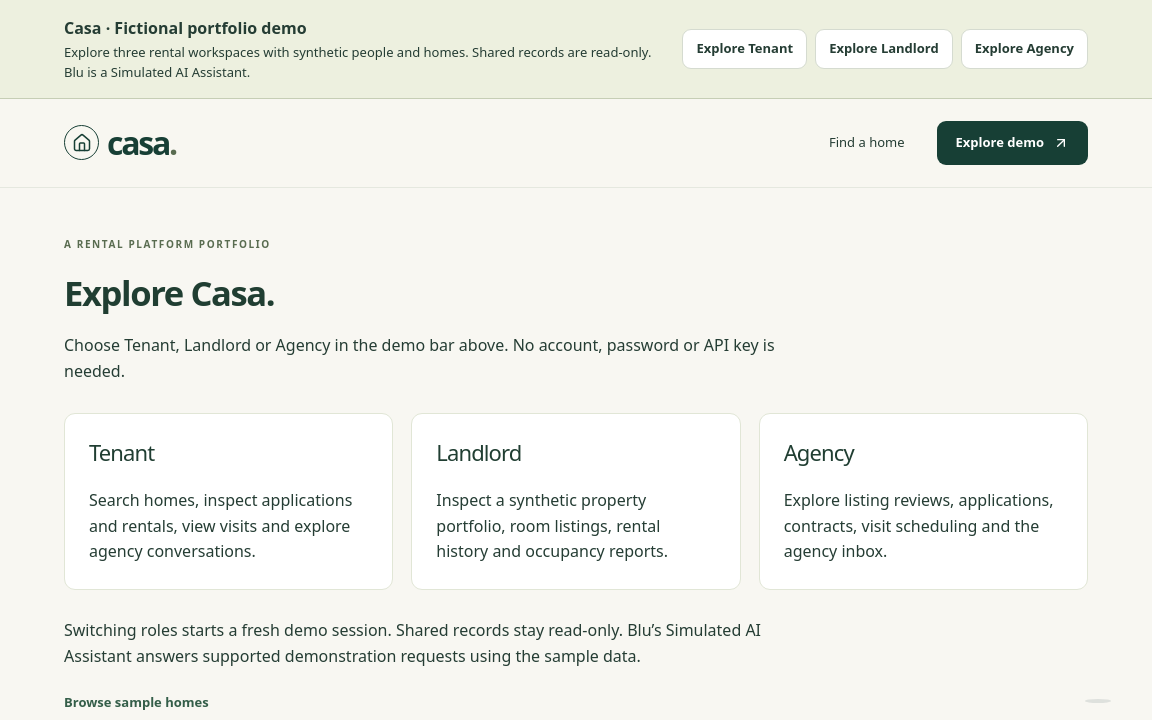
Test: keeps demo access errors visible without storing a failed session
This screenshot has width=1152, height=720.
Expected: the heading "Explore Casa." is shown, top-left (64, 269), bottom-right (274, 316)
Step 1. Click the button "Explore Landlord" → point(884, 49), box top-left (815, 29), bottom-right (953, 69)
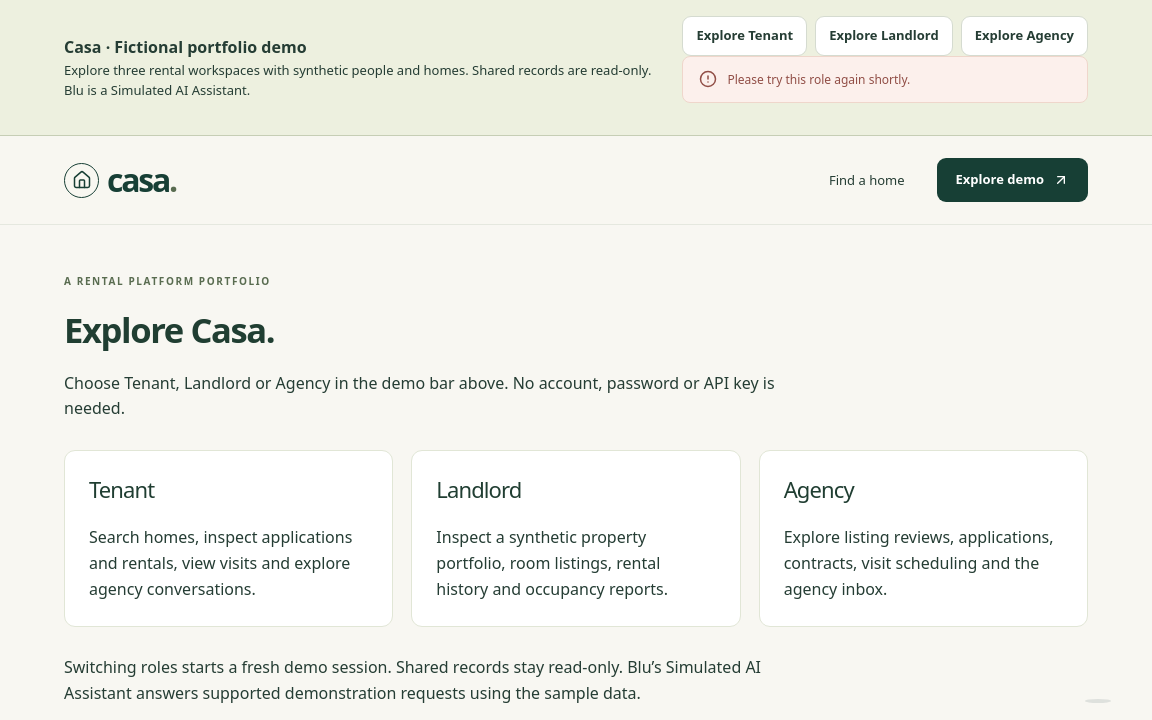
Expected: the text "Please try this role again shortly." is shown, top-left (682, 56), bottom-right (1088, 103)
